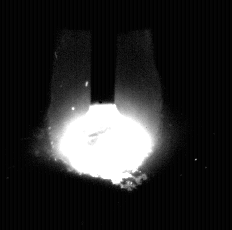arame: (91, 0, 116, 105)
poca: (49, 0, 163, 230)
